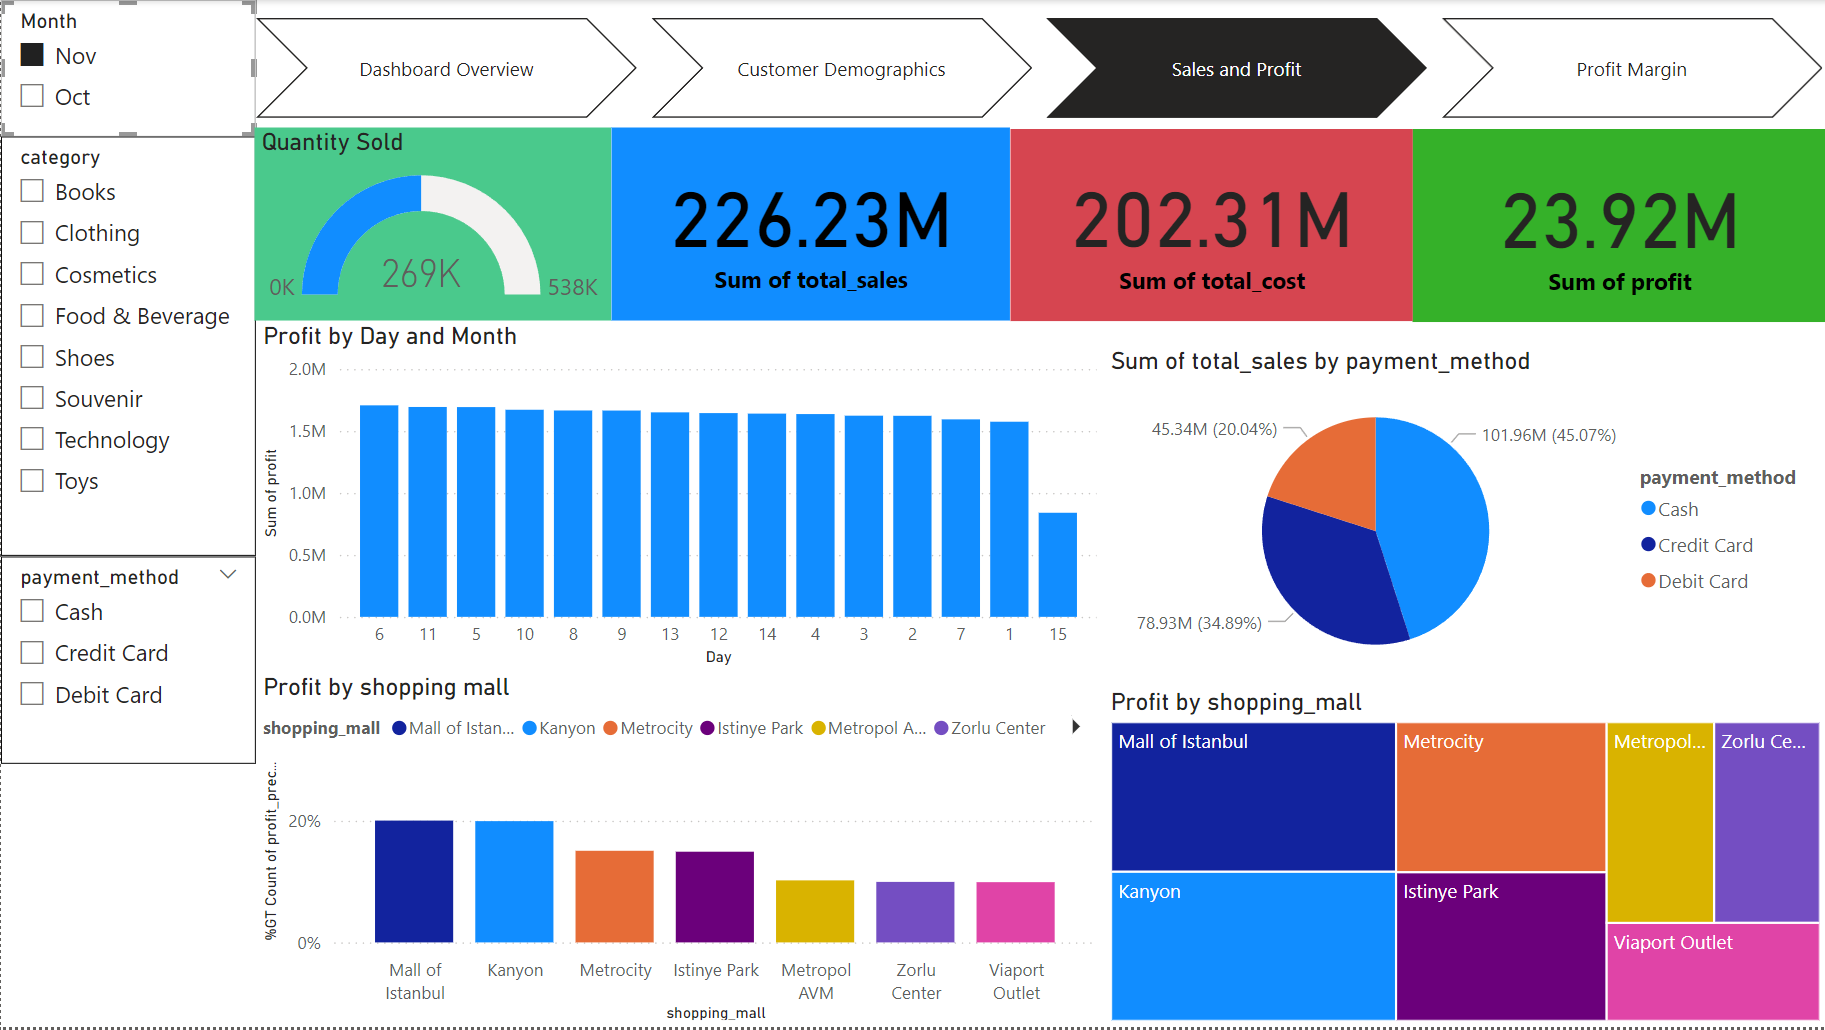

This screenshot's page, from the dashboard's own definition file:
{"tool":"powerbi","page":{"name":"Sales and Profit by Time of Day and payment method impact on sales","canvas":[1280,720],"ordinal":2},"visuals":[{"type":"lineStackedColumnComboChart","title":"Profit by shopping mall","fields":{"Y":["CountNonNull(Table2.profit_precentage)"],"Category":["Table2.shopping_mall"],"Series":["Table2.shopping_mall"]},"box":[178.8,457.5,594.2,262.9],"z":0},{"type":"clusteredColumnChart","title":"Profit by Day and Month","fields":{"Category":["Table2.Day"],"Y":["Sum(Table2.profit)"]},"box":[178.8,135.7,594.2,320.7],"z":1000},{"type":"slicer","fields":{"Values":["Table2.First Characters"]},"box":[0,0,178.4,96.2],"z":2000},{"type":"slicer","fields":{"Values":["Table2.payment_method"]},"box":[0,390.2,178.8,145.1],"z":3000},{"type":"card","fields":{"Values":["Sum(Table2.total_sales)"]},"box":[428.7,0,279.3,135.6],"z":4000},{"type":"card","fields":{"Values":["Sum(Table2.total_cost)"]},"box":[708.8,1.1,281.8,134.6],"z":5000},{"type":"card","fields":{"Values":["Sum(Table2.profit)"]},"box":[990.3,0,289.7,135.6],"z":6000},{"type":"slicer","fields":{"Values":["Table2.category"]},"box":[0,96.2,178.4,294.3],"z":7000},{"type":"gauge","title":"Quantity Sold","fields":{"Y":["Sum(Table2.quantity)"]},"box":[178.4,0,250.3,135.6],"z":8000},{"type":"pieChart","fields":{"Category":["Table2.payment_method"],"Y":["Sum(Table2.total_sales)"]},"box":[772.9,135.7,506.9,346],"z":9000},{"type":"treemap","title":"Profit by shopping_mall","fields":{"Group":["Table2.shopping_mall"],"Values":["Sum(Table2.profit)"]},"box":[772.9,429.1,506.9,291.3],"z":10000}]}

Visuals, with their boxes on the page's 1280x720 design canvas (x1, y1, x2, y2). These are canvas units, not pixel positions in the 1825x1030 screenshot, which may show the page scaled, cropped or inside an application window:
"Profit by shopping mall" lineStackedColumnComboChart: l=179, t=458, r=773, b=720
"Profit by Day and Month" clusteredColumnChart: l=179, t=136, r=773, b=456
slicer - Table2.First Characters: l=0, t=0, r=178, b=96
slicer - Table2.payment_method: l=0, t=390, r=179, b=535
card - Sum(Table2.total_sales): l=429, t=0, r=708, b=136
card - Sum(Table2.total_cost): l=709, t=1, r=991, b=136
card - Sum(Table2.profit): l=990, t=0, r=1280, b=136
slicer - Table2.category: l=0, t=96, r=178, b=390
"Quantity Sold" gauge: l=178, t=0, r=429, b=136
pieChart - Table2.payment_method x Sum(Table2.total_sales): l=773, t=136, r=1280, b=482
"Profit by shopping_mall" treemap: l=773, t=429, r=1280, b=720
